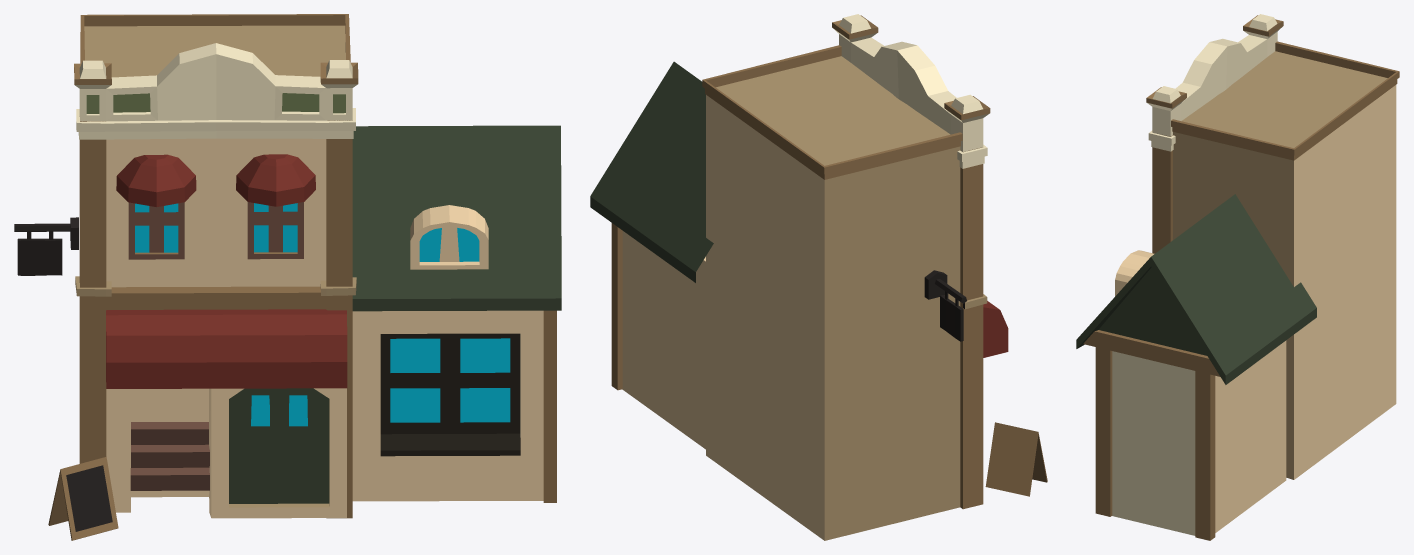
File: Restaurant.gltf
3 renders of one model, left to right at view 1: azimuth 30°, elevation 25°; view 2: azimuth 150°, elevation 25°; view 3: azimuth 270°, elevation 25°, orthographic. The views are drawn at different scales.
Visible parts, largest first — view 1: Cube.080; view 2: Cube.080; view 3: Cube.080.
Boxes of the visible parts, x1=… form: Cube.080: x1=14, y1=14, x2=561, y2=540; Cube.080: x1=590, y1=14, x2=1047, y2=540; Cube.080: x1=1076, y1=14, x2=1399, y2=540.
Size of the model in its own units: 7.52 by 6.64 by 5.3.
Materials: 1 (1 with a texture image).
